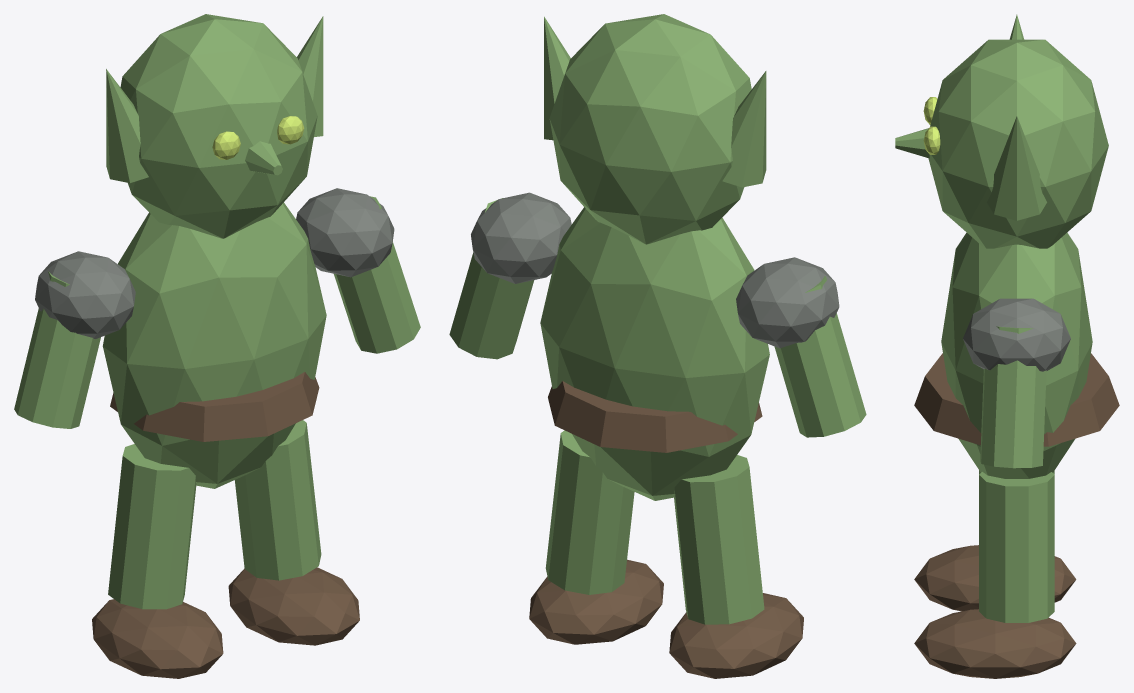
The model's file is goblin.glb.
3 renders of one model, left to right at view 1: azimuth 30°, elevation 25°; view 2: azimuth 150°, elevation 25°; view 3: azimuth 270°, elevation 25°, orthographic. The views are drawn at different scales.
Visible parts, largest first — view 1: Body, Head, Leg_L, Leg_R, Boot_L, Boot_R, Belt, Arm_L, Shoulder_L, Shoulder_R, Arm_R, Ear_L (+4 smaller); view 2: Body, Head, Leg_L, Leg_R, Belt, Boot_L, Arm_L, Boot_R, Shoulder_L, Shoulder_R, Arm_R, Ear_L (+1 smaller); view 3: Head, Body, Leg_R, Boot_R, Arm_R, Shoulder_R, Belt, Boot_L, Ear_R, Nose, Eye.001.
Boxes of the visible parts, x1,y1,x2,y2 form: Body: (102, 202, 326, 488); Head: (120, 14, 317, 238); Leg_L: (108, 444, 196, 609); Leg_R: (234, 420, 321, 580); Boot_L: (92, 599, 223, 678); Boot_R: (228, 567, 359, 645); Belt: (110, 372, 319, 441); Arm_L: (14, 271, 100, 428); Shoulder_L: (35, 251, 135, 338); Shoulder_R: (296, 188, 394, 277); Arm_R: (334, 196, 420, 353); Ear_L: (106, 69, 148, 182); Body: (540, 207, 769, 500); Head: (549, 14, 751, 244); Leg_L: (674, 455, 764, 624); Leg_R: (545, 430, 634, 594); Belt: (548, 381, 762, 452); Boot_L: (669, 593, 803, 678); Arm_L: (774, 276, 866, 437); Boot_R: (529, 559, 663, 644); Shoulder_L: (736, 257, 839, 348); Shoulder_R: (471, 192, 571, 283); Arm_R: (449, 198, 534, 359); Ear_L: (722, 71, 766, 187); Head: (928, 39, 1108, 248); Body: (941, 232, 1092, 478); Leg_R: (979, 472, 1054, 622); Boot_R: (914, 609, 1076, 678); Arm_R: (980, 326, 1046, 468); Shoulder_R: (963, 298, 1070, 371); Belt: (914, 353, 1119, 446); Boot_L: (914, 545, 1076, 611); Ear_R: (987, 116, 1046, 220); Nose: (895, 128, 929, 158); Eye.001: (923, 126, 940, 154).
Size of the model in its own units: 1.63 by 2.43 by 0.83.
